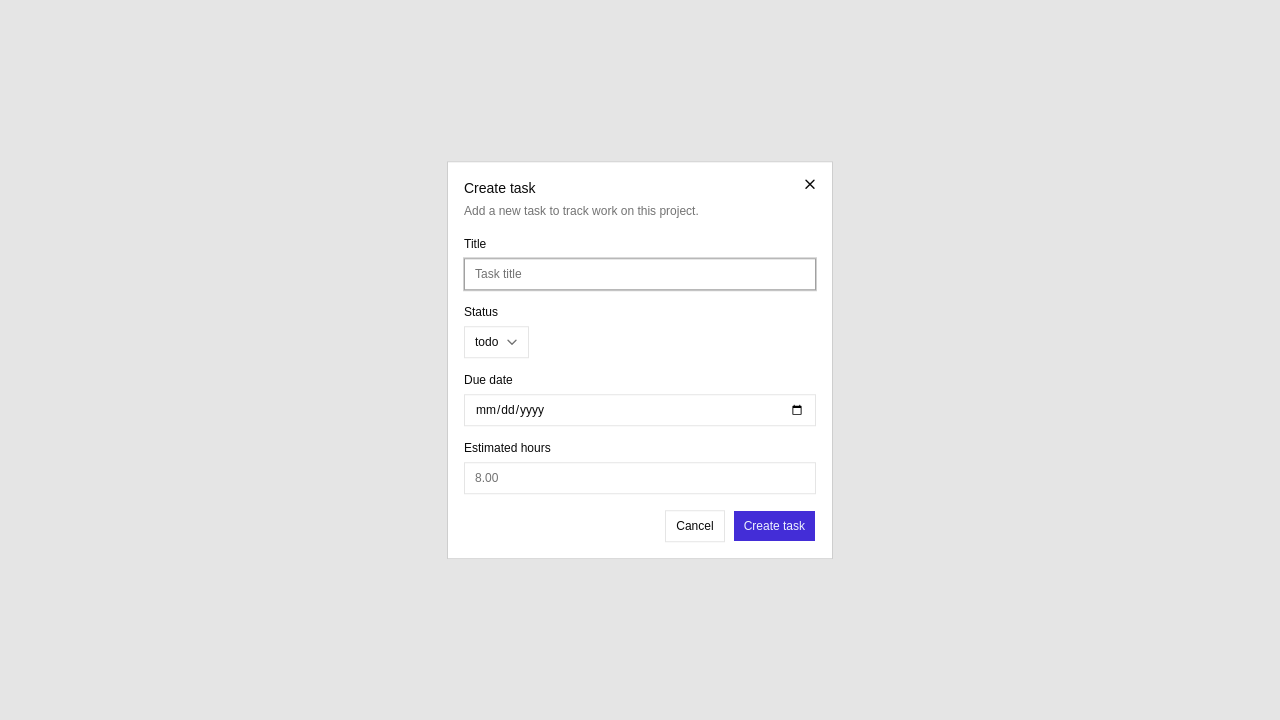
TaskFormDialog › disables submit while pending
This screenshot has width=1280, height=720.
Type "Pending Task" into the field labelled "Title" at (640,274), box [464,258,816,290]
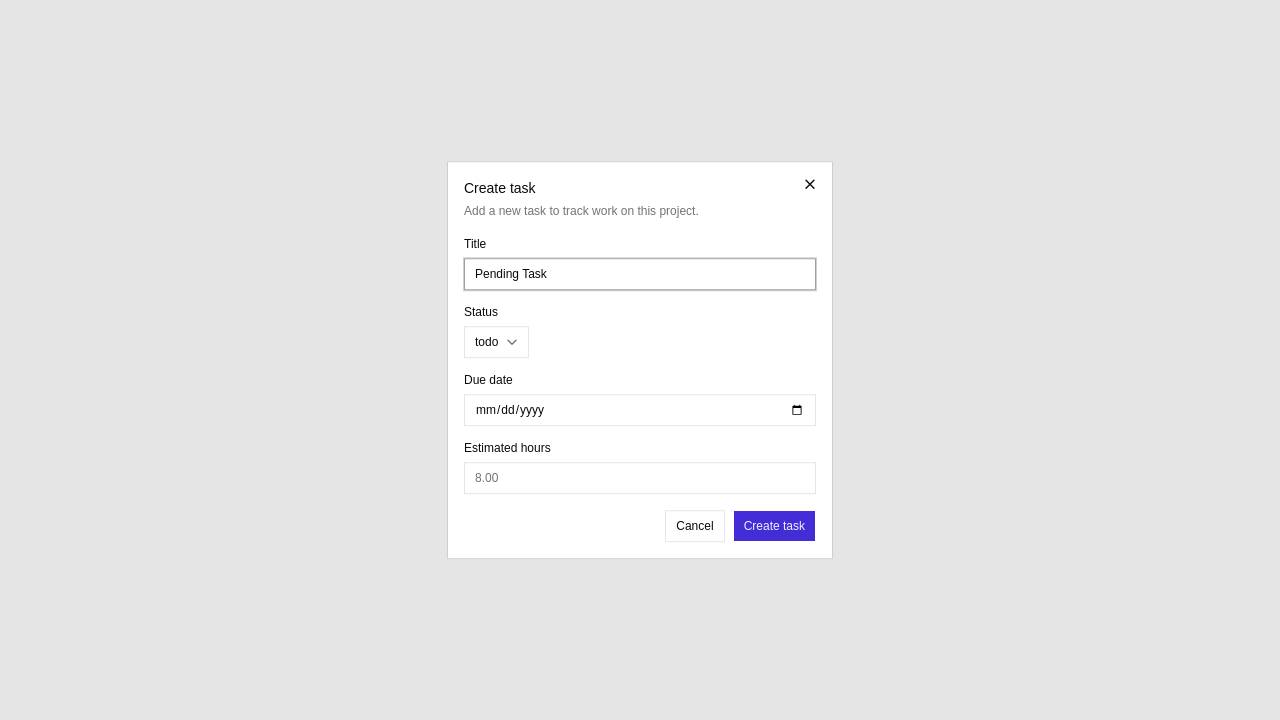
Click the button "Create task" at (774,526), box [733,510,816,542]
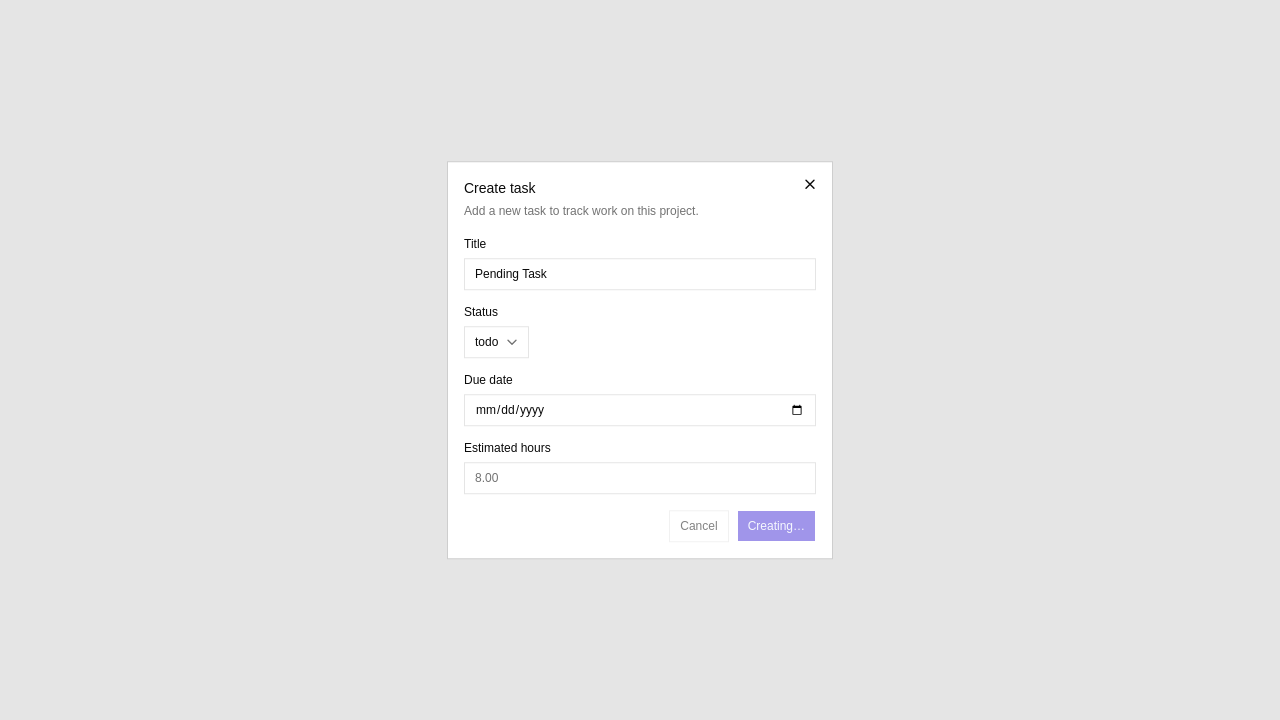
Expected: the button "Creating…" is disabled, [737,510,816,542]
